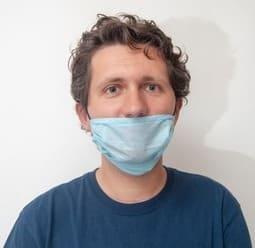with_incorrect_mask: (91, 50, 174, 175)
